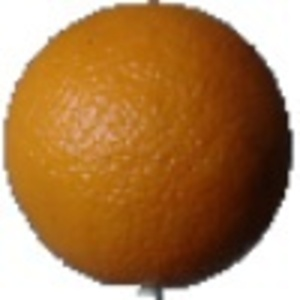laranja: (3, 1, 293, 289)
